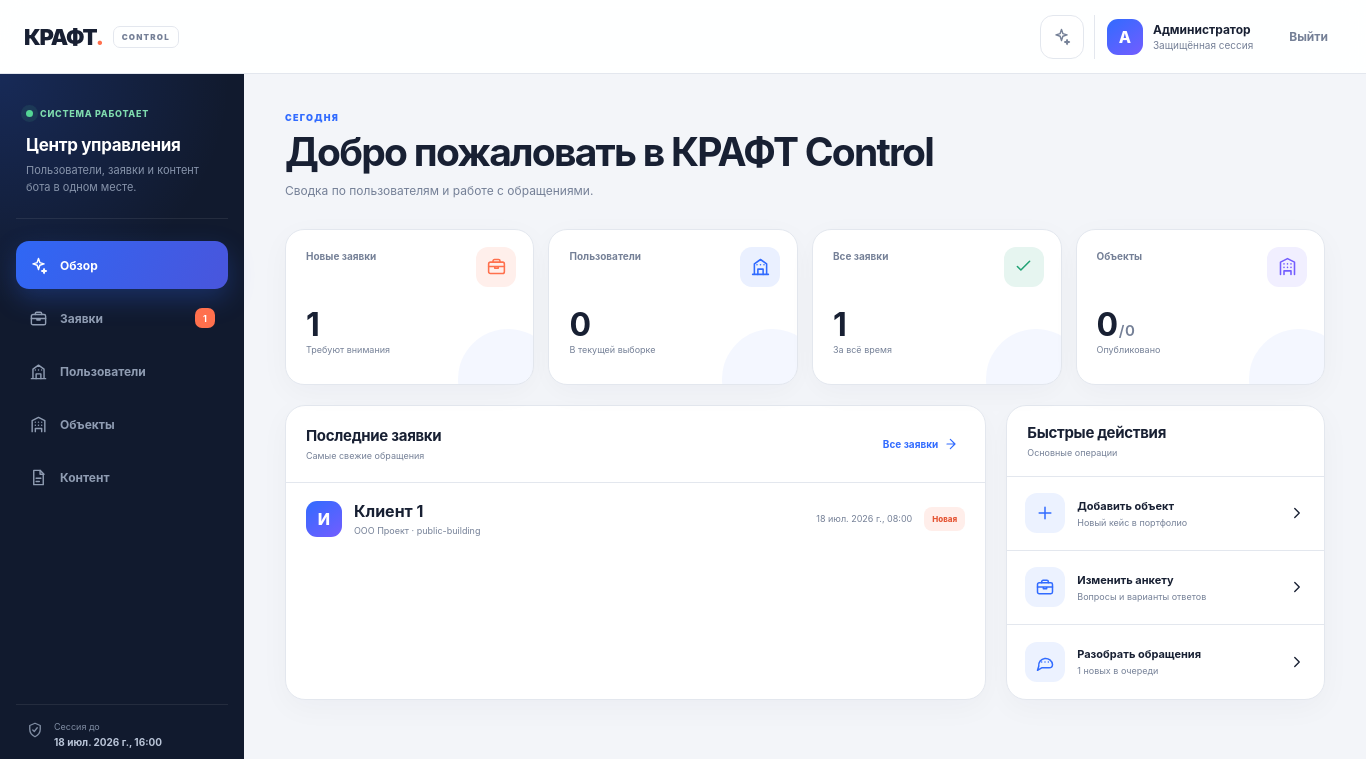
it: AdminPanel contact and cross-device session handling › queues a clickable MAX contact through the bot instead of using a blocked mailto link
The width and height of the screenshot is (1366, 759).
Click the button "Заявки 1" at (122, 318), box x1=16 y1=294 x2=228 y2=342
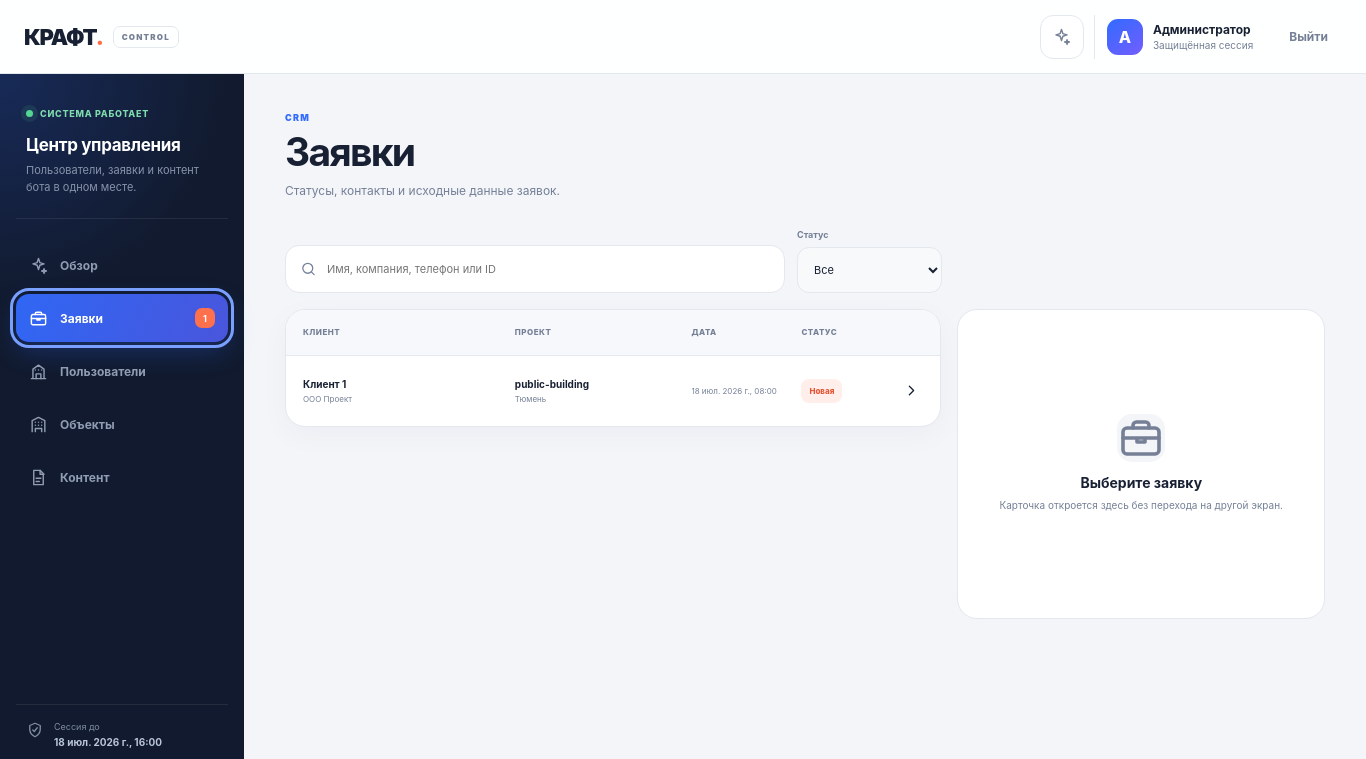
Click the row "Клиент 1" at (325, 384), box x1=286 y1=356 x2=940 y2=426
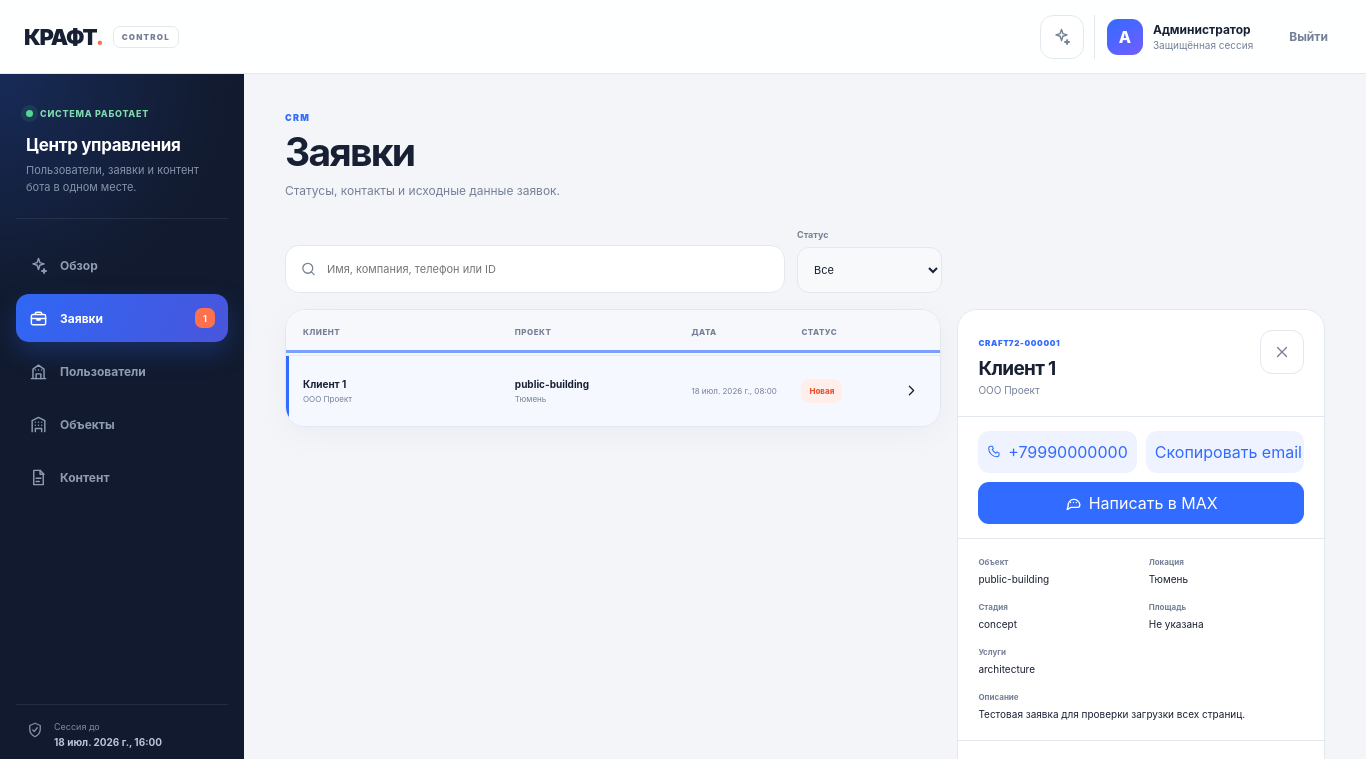
Click the button "Написать в MAX" at (1141, 503), box x1=978 y1=482 x2=1304 y2=524
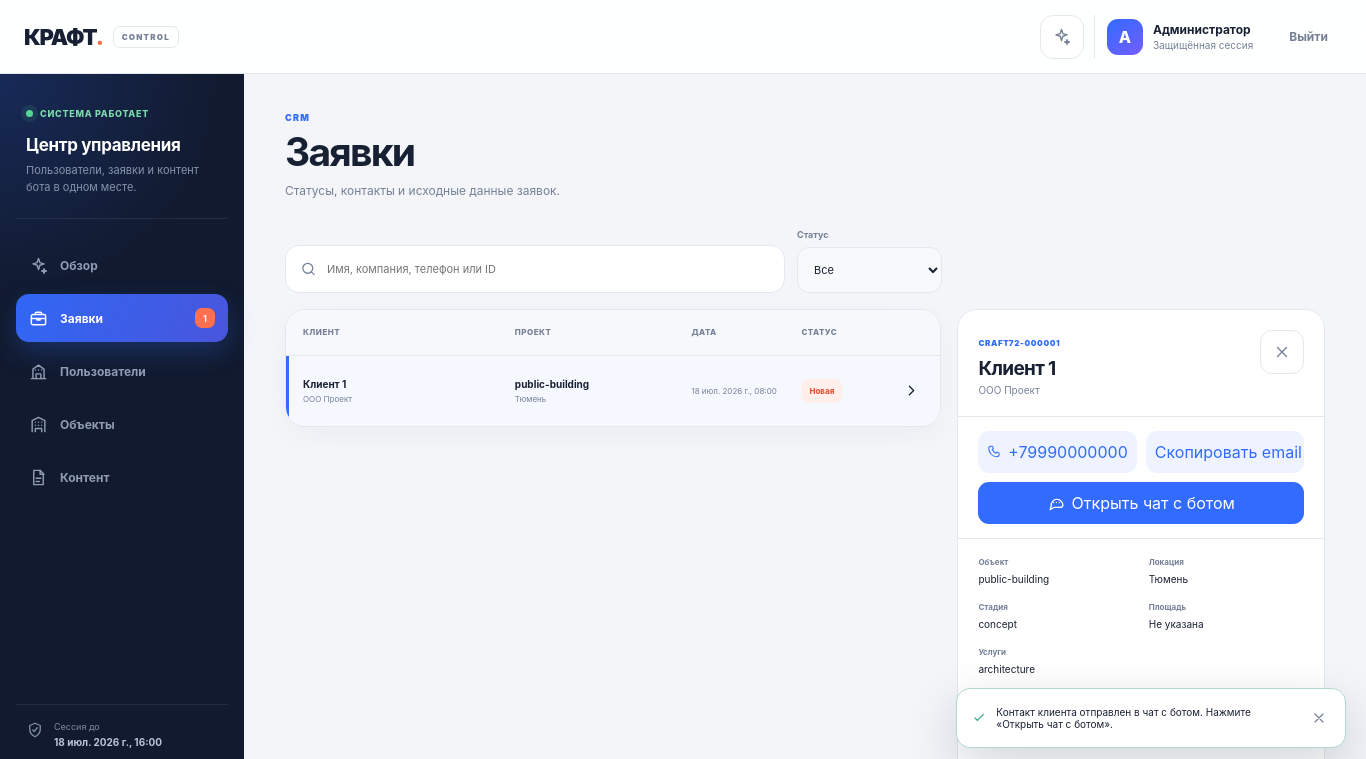
Check: the button "Открыть чат с ботом" is shown, box x1=978 y1=482 x2=1304 y2=524
Check: the text "Контакт клиента отправлен в чат с ботом" is shown, box x1=996 y1=706 x2=1251 y2=730
